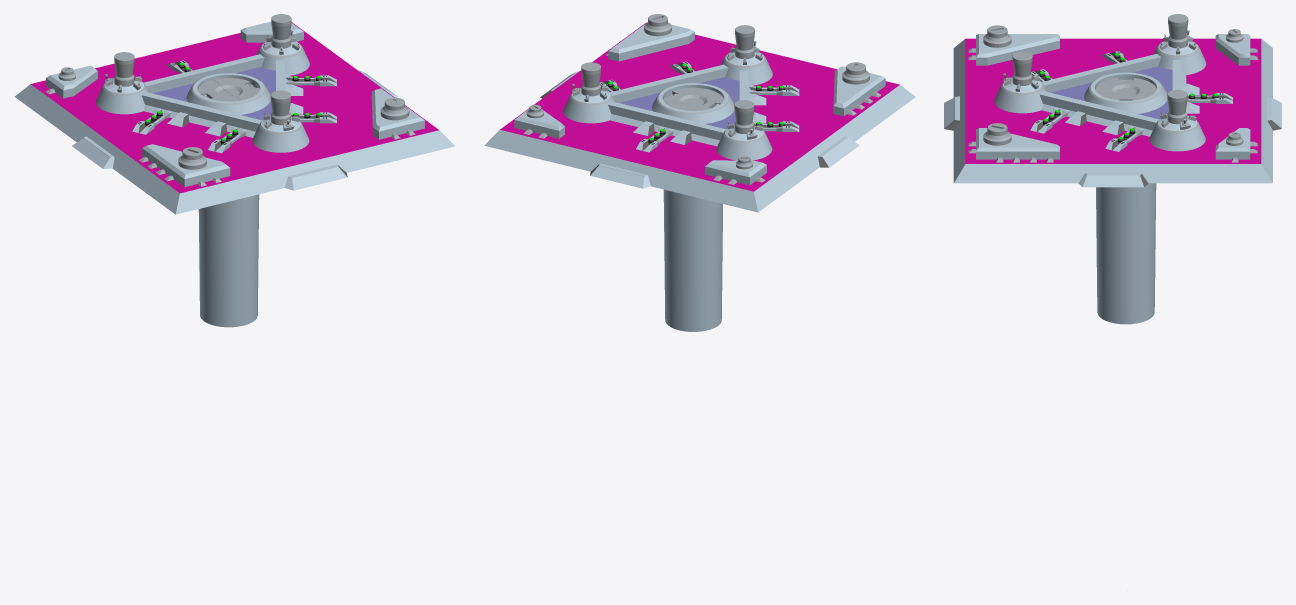
File: Maaker5.fbx
3 views of the same model, side by side, from view 1: azimuth 30°, elevation 25°; view 2: azimuth 150°, elevation 25°; view 3: azimuth 270°, elevation 25° (orthographic). The views are drawn at different scales.
Visible parts, largest first — view 1: foundation_12, hole_base, boots, base, _pillar3, _pillar1, _pillar2, deets, door; view 2: foundation_12, hole_base, boots, base, _pillar1, _pillar2, deets, _pillar3, door; view 3: foundation_12, hole_base, boots, base, _pillar2, deets, _pillar3, _pillar1, door (×2), railstock3.
Part boxes in pixels (x1,y1,x2,y2): foundation_12: (14, 22, 455, 214); hole_base: (186, 73, 270, 327); boots: (46, 21, 424, 190); base: (141, 54, 289, 137); _pillar3: (252, 90, 309, 152); _pillar1: (96, 52, 148, 114); _pillar2: (256, 14, 309, 75); deets: (46, 67, 415, 186); door: (214, 78, 259, 100); foundation_12: (484, 22, 915, 212); hole_base: (652, 83, 734, 331); boots: (514, 22, 885, 188); base: (608, 64, 752, 146); _pillar1: (716, 100, 772, 160); _pillar2: (563, 62, 614, 123); deets: (523, 14, 881, 184); _pillar3: (721, 25, 772, 85); door: (663, 87, 708, 109); foundation_12: (953, 38, 1272, 183); hole_base: (1084, 72, 1167, 324); boots: (944, 34, 1281, 187); base: (1039, 54, 1186, 136); _pillar2: (1149, 89, 1205, 151); deets: (968, 25, 1257, 162); _pillar3: (994, 51, 1046, 113); _pillar1: (1153, 14, 1206, 74); door (×2): (1095, 78, 1156, 100); railstock3: (1105, 126, 1144, 151).
Bounding box in the file's own units: 517 × 897 × 517.
